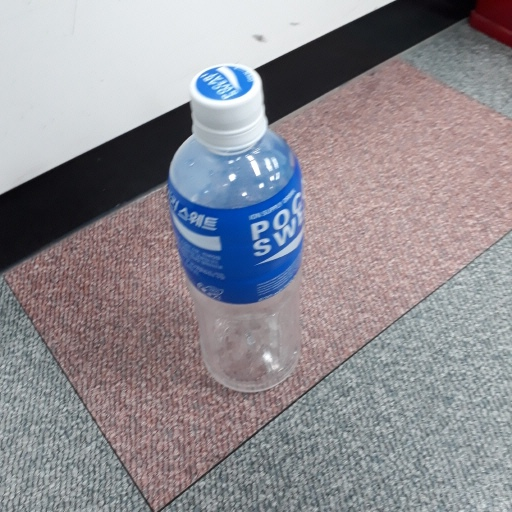Plastic_0: (164, 64, 306, 396)
